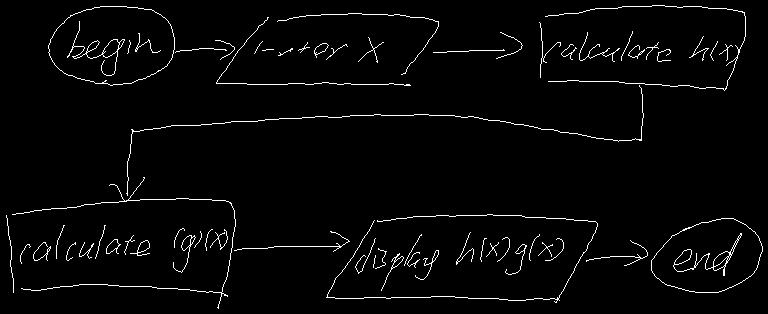arrow: (109, 85, 643, 201), (433, 32, 522, 58), (234, 231, 349, 251), (586, 240, 647, 265), (175, 40, 234, 59)
data: (326, 214, 597, 302), (216, 13, 438, 85)
process: (6, 198, 235, 308), (539, 5, 745, 90)
terminator: (48, 6, 174, 85), (651, 218, 762, 292)
text: (355, 232, 563, 290), (20, 225, 227, 272), (543, 31, 739, 65), (67, 21, 160, 75), (254, 37, 383, 62), (673, 233, 741, 275)
